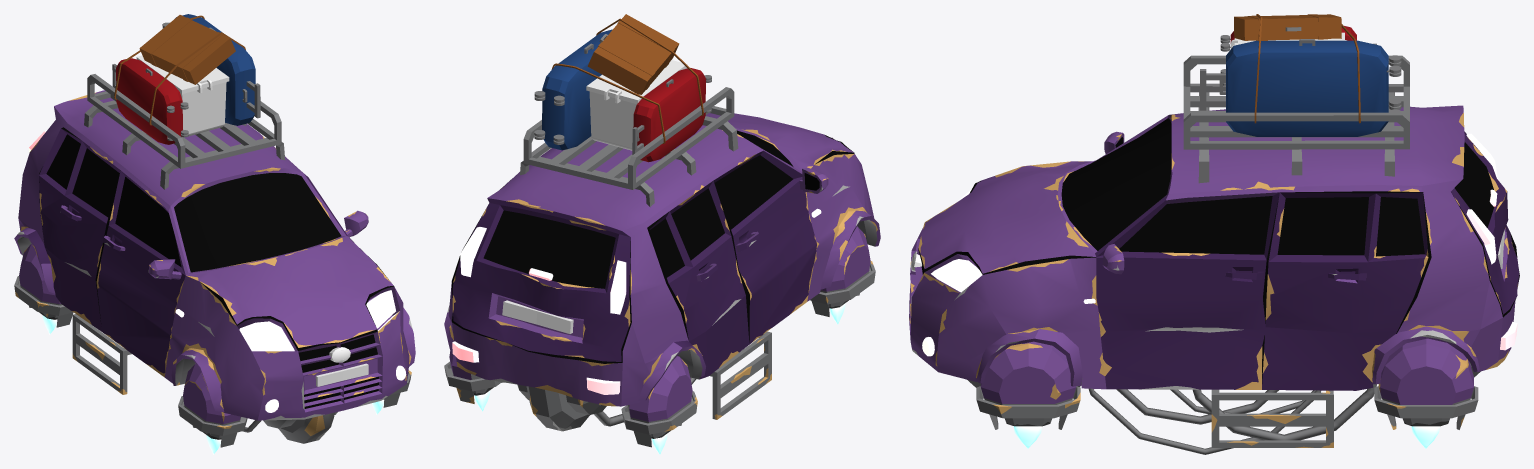
Rendered from rusted_myvi.glb.
3 views of the same model, side by side, from view 1: azimuth 30°, elevation 25°; view 2: azimuth 150°, elevation 25°; view 3: azimuth 270°, elevation 25° (orthographic). The views are drawn at different scales.
Visible parts, largest first — view 1: car, rack, nozzle_front_r, nozzle_rear_r, engine; view 2: car, rack, nozzle_rear_r, nozzle_front_r, engine, nozzle_rear_l; view 3: car, rack, nozzle_rear_l, nozzle_front_l, cable, cable.002, cable.001.
Part boxes in pixels (<box>): car: <box>14,14,415,420</box>; rack: <box>84,74,285,189</box>; nozzle_front_r: <box>178,363,247,447</box>; nozzle_rear_r: <box>14,244,73,327</box>; engine: <box>263,412,337,443</box>; car: <box>444,14,880,419</box>; rack: <box>520,87,738,206</box>; nozzle_rear_r: <box>621,356,697,447</box>; nozzle_front_r: <box>810,226,875,316</box>; engine: <box>517,384,606,431</box>; nozzle_rear_l: <box>444,351,503,403</box>; car: <box>909,14,1519,447</box>; rack: <box>1183,55,1409,183</box>; nozzle_rear_l: <box>1374,338,1478,429</box>; nozzle_front_l: <box>976,341,1080,429</box>; cable: <box>1192,384,1377,440</box>; cable.002: <box>1088,388,1320,454</box>; cable.001: <box>1116,389,1278,424</box>.
Size of the model in its own units: 1.87 by 3.05 by 3.75.
